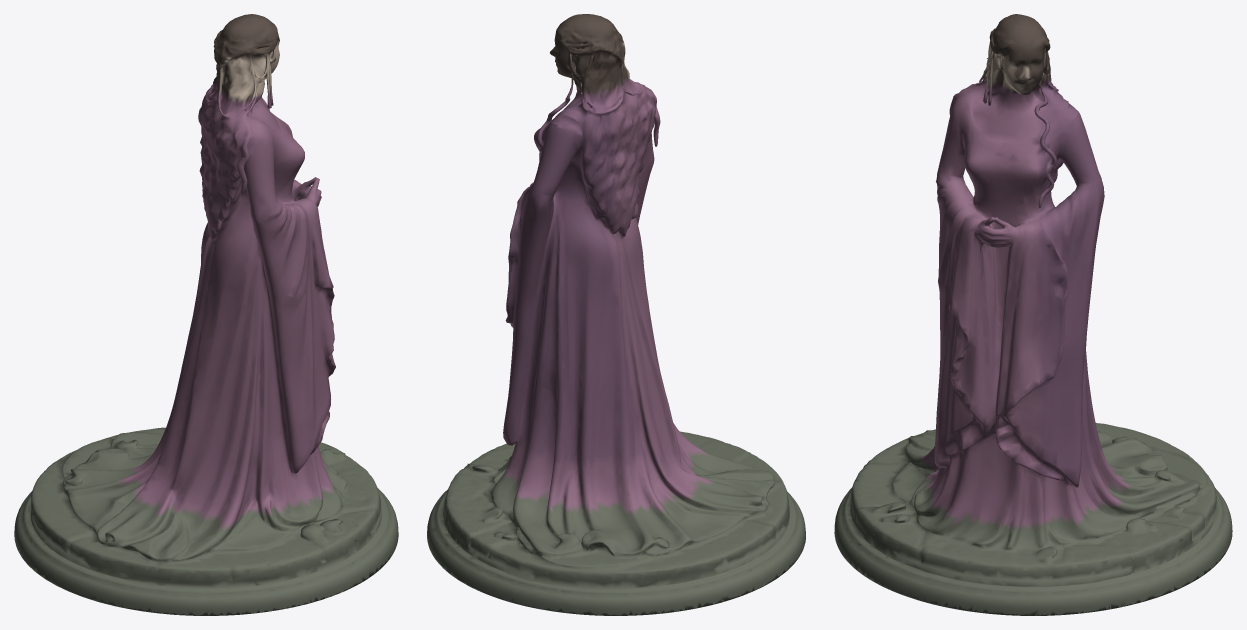
The model's file is pg_arwen.glb.
3 views of the same model, side by side, from view 1: azimuth 30°, elevation 25°; view 2: azimuth 150°, elevation 25°; view 3: azimuth 270°, elevation 25° (orthographic). The views are drawn at different scales.
Parts seen in each view (by area): view 1: Arwen_0.stl; view 2: Arwen_0.stl; view 3: Arwen_0.stl.
Part boxes in pixels (<box>): Arwen_0.stl: <box>14,14,398,615</box>; Arwen_0.stl: <box>427,14,805,615</box>; Arwen_0.stl: <box>834,14,1232,615</box>.
Size of the model in its own units: 0.6793 by 1 by 0.6795.
